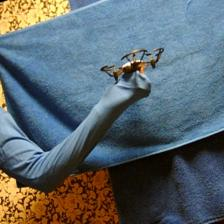drone: (101, 49, 168, 82)
